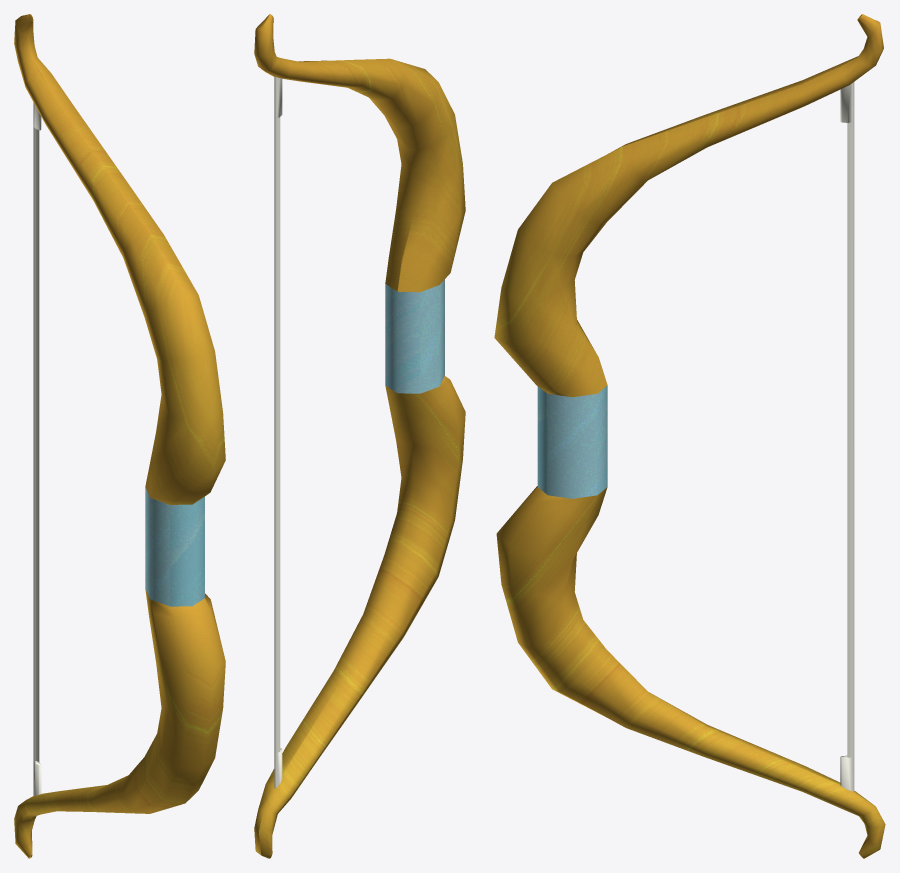
The model's file is BowSSS.fbx.
3 views of the same model, side by side, from view 1: azimuth 30°, elevation 25°; view 2: azimuth 150°, elevation 25°; view 3: azimuth 270°, elevation 25° (orthographic).
Parts seen in each view (by area): view 1: Bow SSS; view 2: Bow SSS; view 3: Bow SSS.
Part boxes in pixels (x1,y1,x2,y2): Bow SSS: [14, 14, 225, 858]; Bow SSS: [254, 14, 465, 858]; Bow SSS: [494, 14, 885, 858].
Bounding box in the file's own units: 0.1187 × 1.67 × 0.7028.
